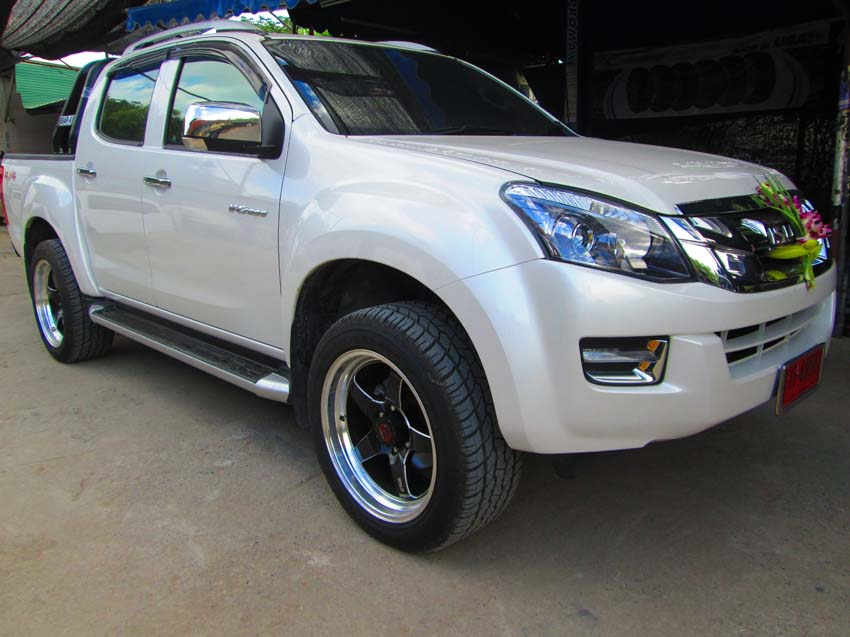pickup: (1, 19, 839, 554)
